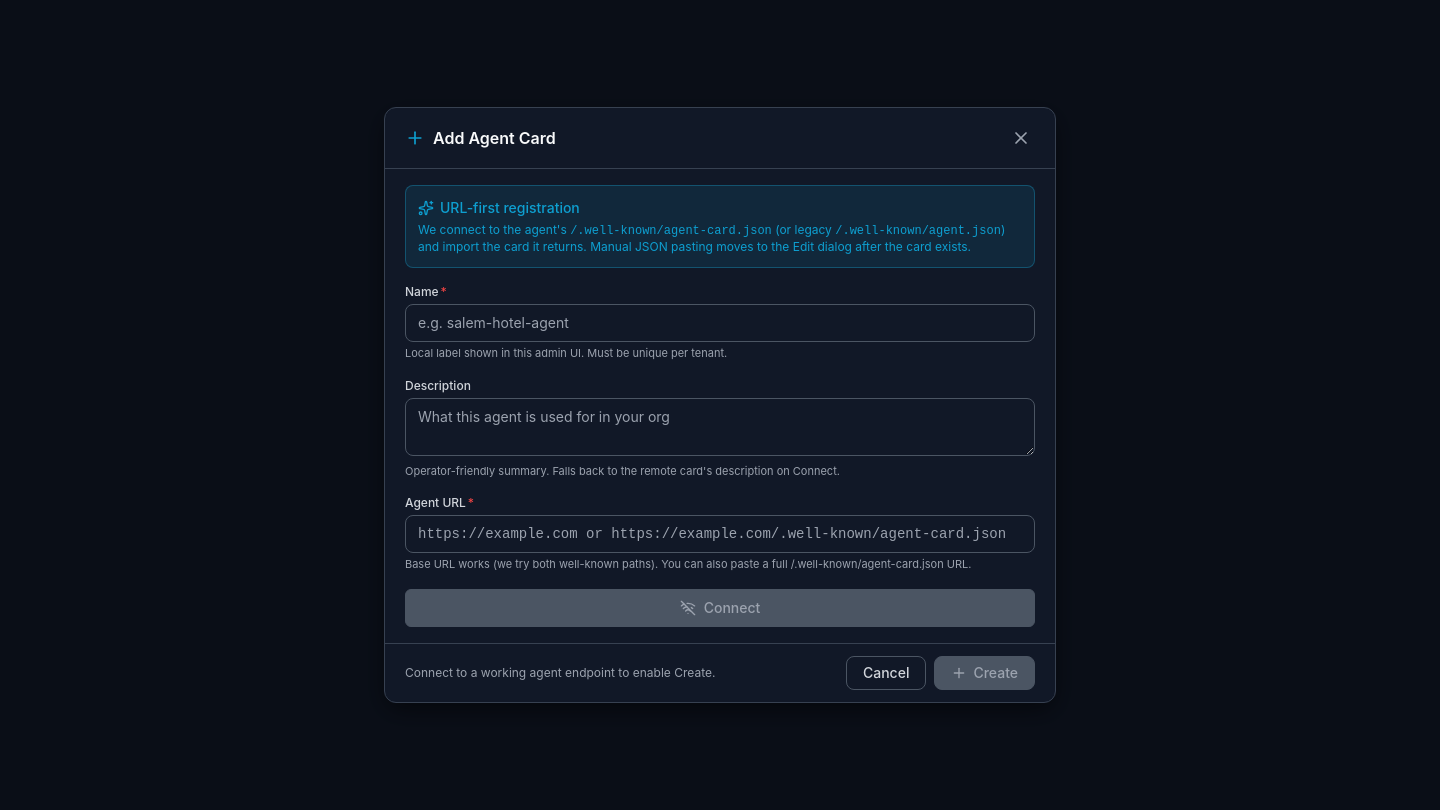
Test: AgentCardCreateDialog › flags a card served from the legacy path
Replace the text in the 2nd field with "https://hotel.test". click: (720, 534)
box: [405,515,1035,553]
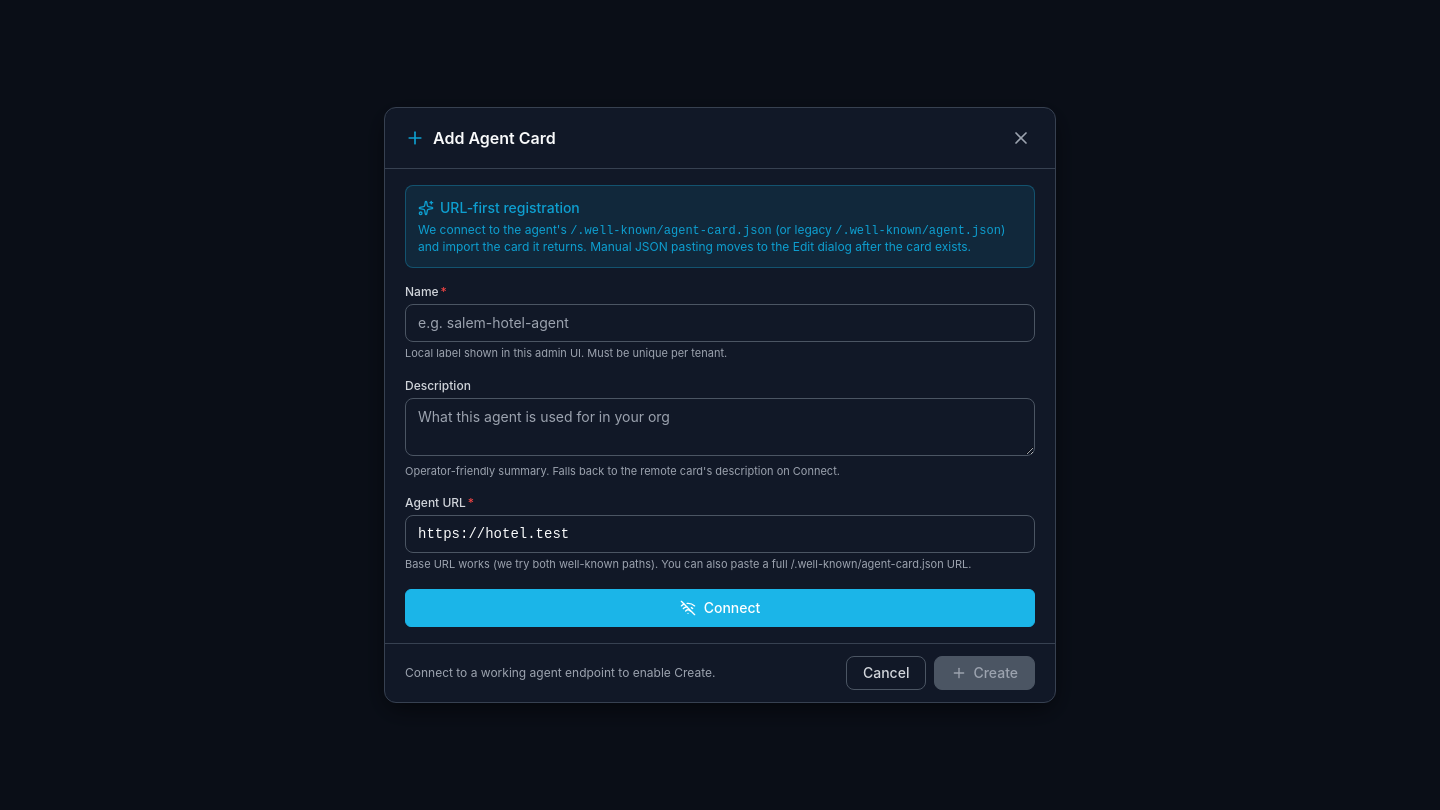
Click the button "Connect". click: (720, 608)
box: [405,589,1035,627]
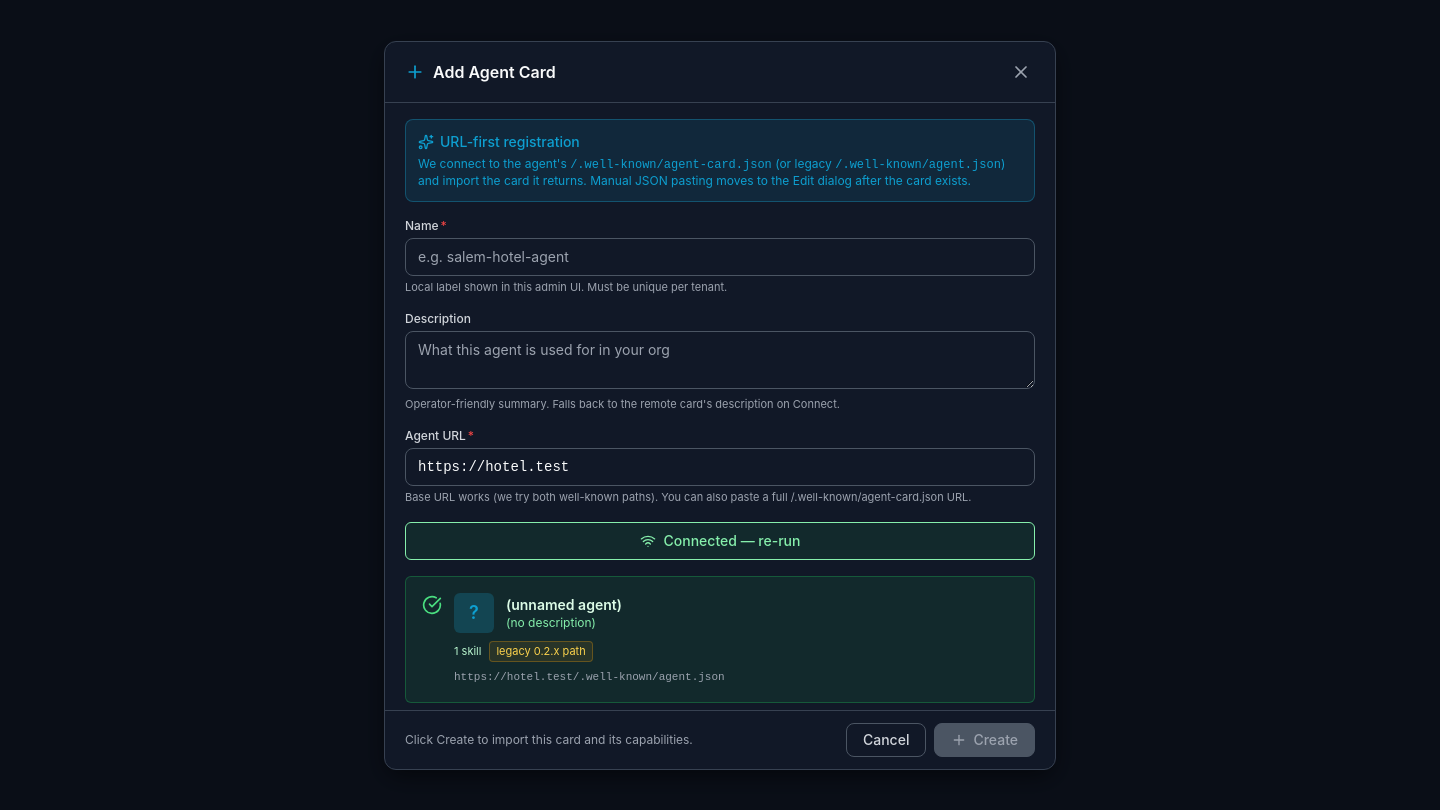
Result: the button "Connected — re-run" is enabled at [405,522,1035,560]
Result: the text "legacy 0.2.x path" is shown at [489,641,593,662]
Result: the text "1 skill" is shown at [454,644,481,659]
